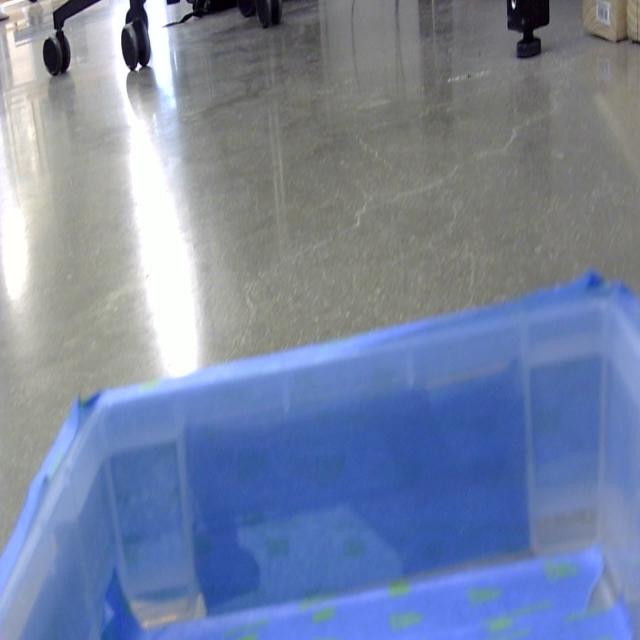bucket: (0, 271, 640, 640)
